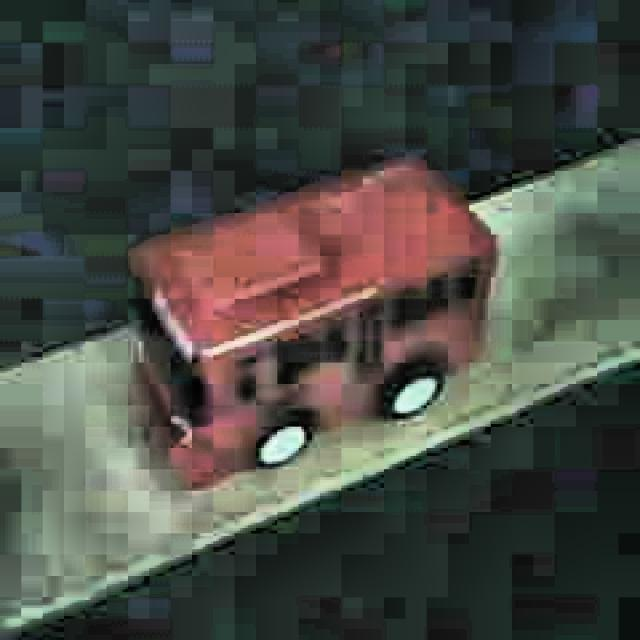bus: (124, 155, 499, 493)
